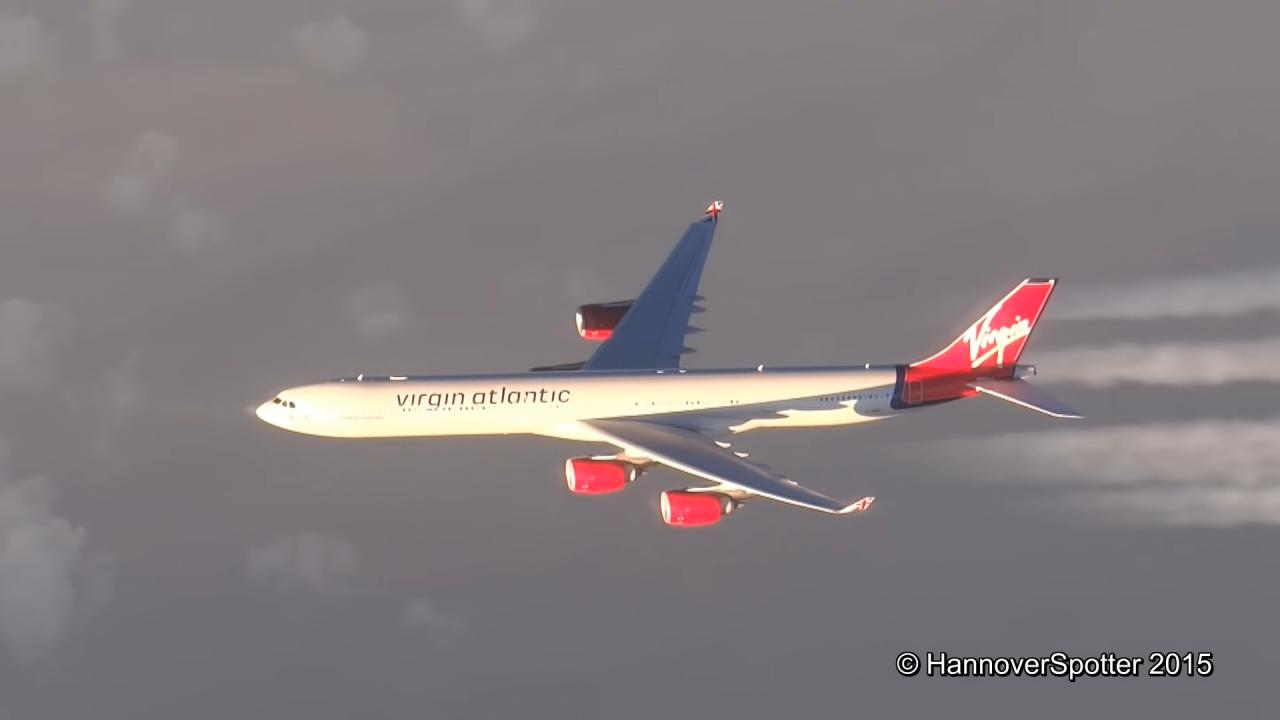Airplane: (239, 189, 1100, 548)
